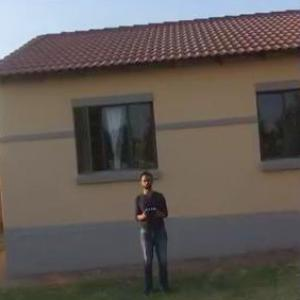follow: (128, 163, 176, 299)
